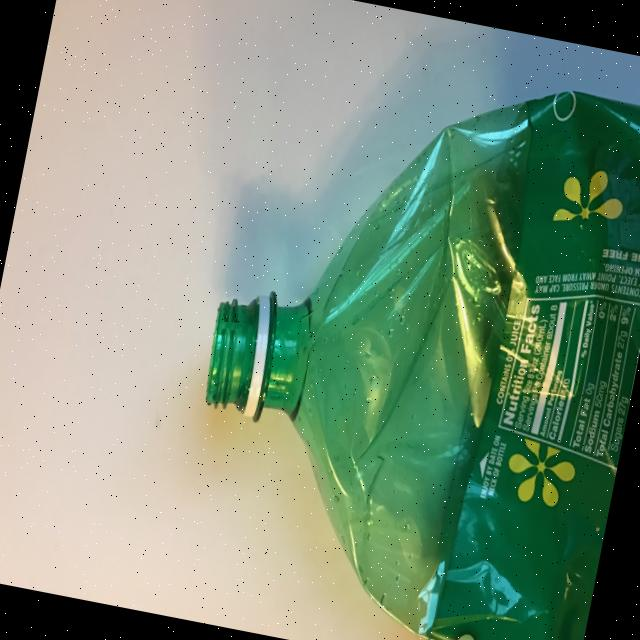plastic: (158, 30, 640, 640)
